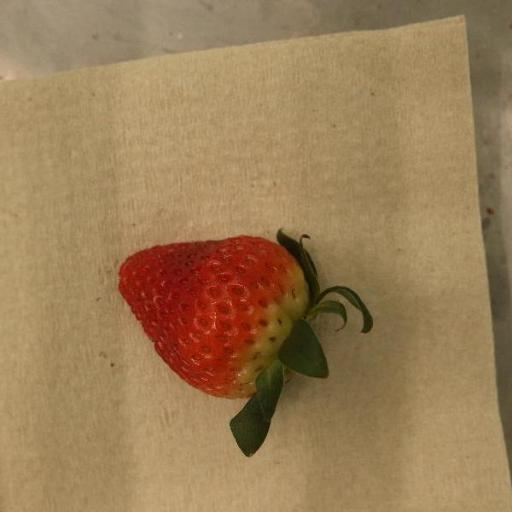Strawberry: (118, 229, 375, 458)
